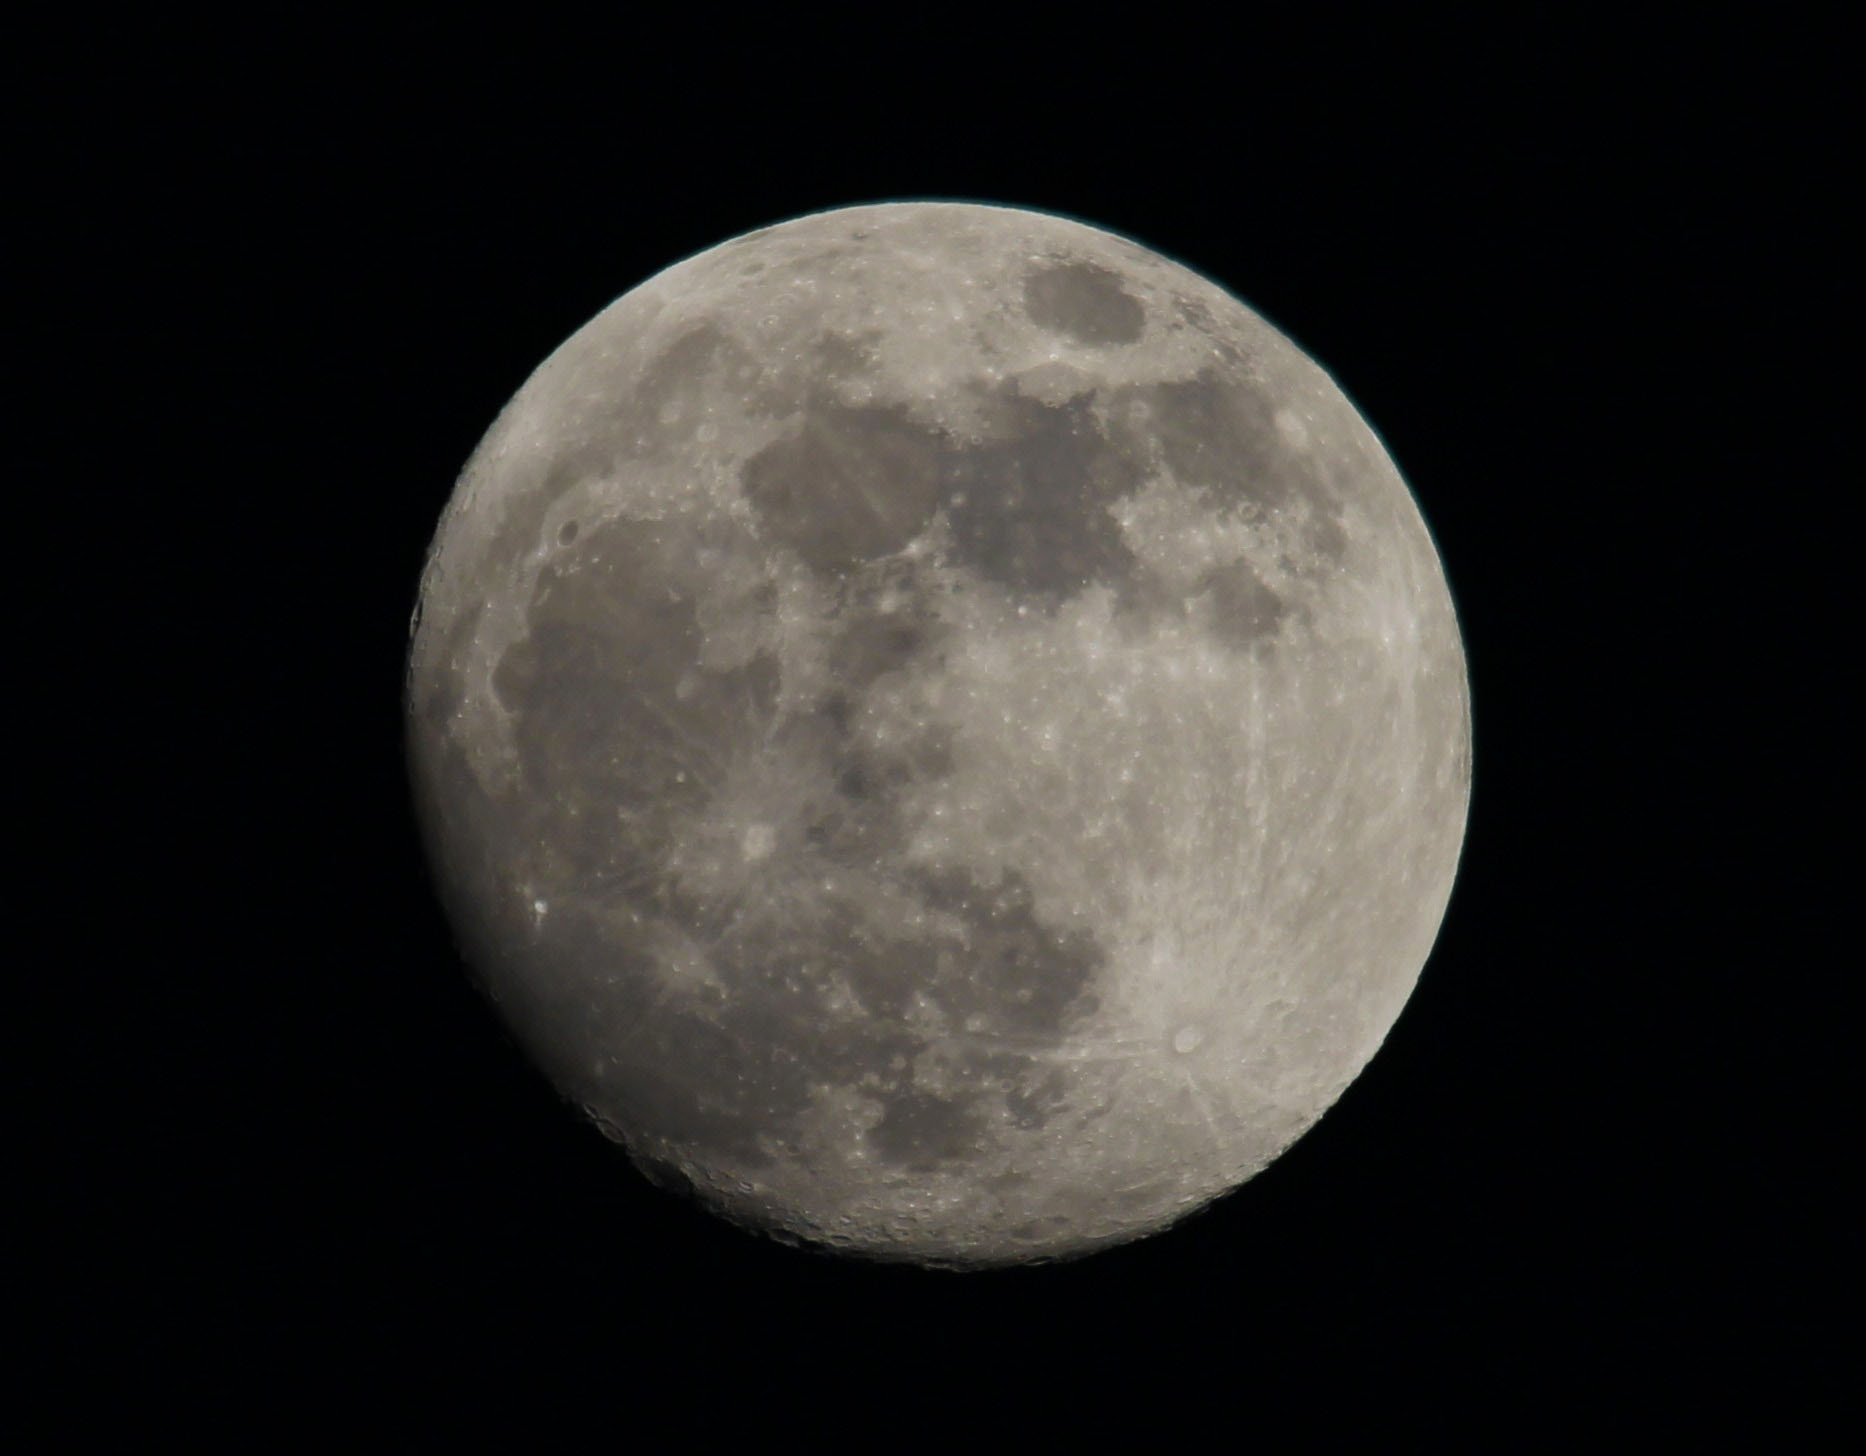crater: (1001, 879, 1306, 1135), (981, 252, 1153, 377), (607, 905, 766, 1036), (709, 785, 824, 905), (1251, 392, 1318, 480), (541, 486, 600, 567), (822, 362, 889, 429), (989, 1204, 1083, 1251), (709, 245, 797, 292), (833, 220, 915, 270), (813, 1211, 900, 1245), (807, 867, 860, 917), (863, 576, 910, 629), (524, 886, 576, 933), (638, 383, 685, 433), (689, 411, 735, 451), (997, 592, 1034, 630), (1112, 506, 1141, 539)
